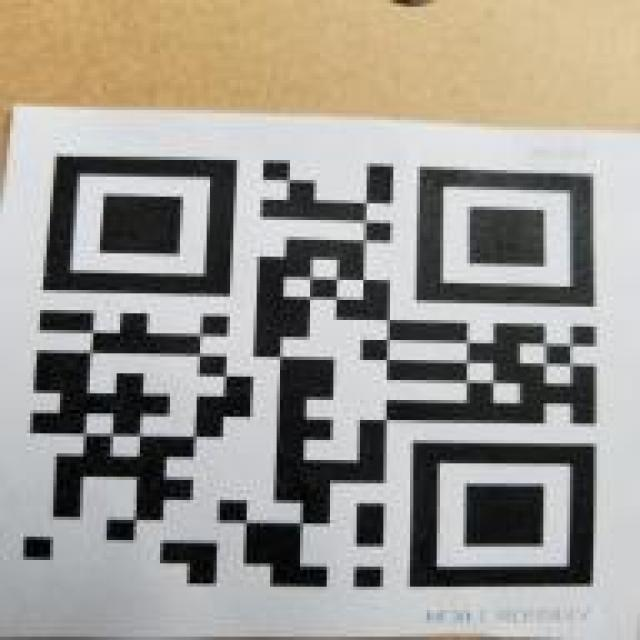QR_CODE: (10, 134, 623, 604)
